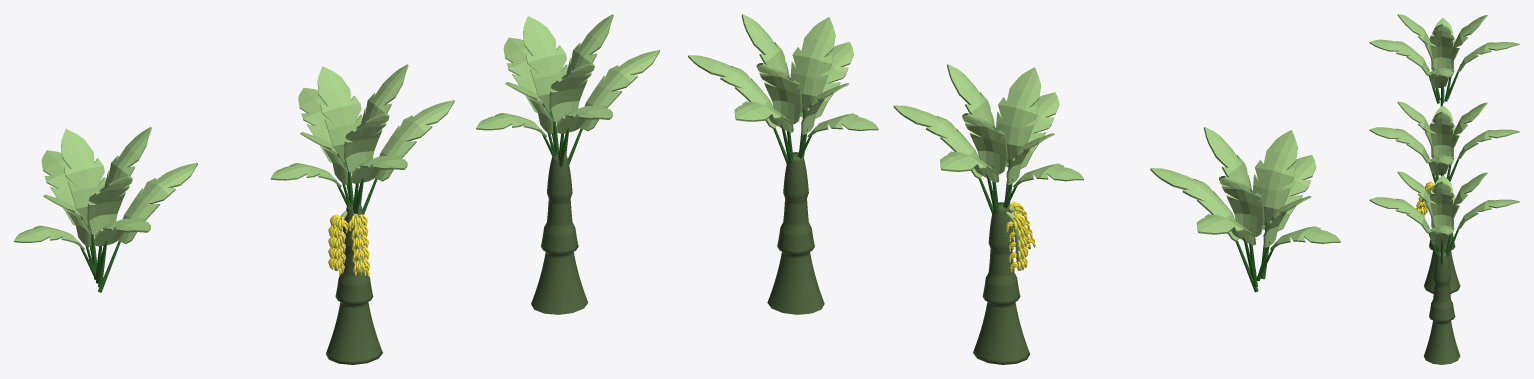
The model's file is banana tree.fbx.
The picture shows the model from 3 angles, left to right: view 1: azimuth 30°, elevation 25°; view 2: azimuth 150°, elevation 25°; view 3: azimuth 270°, elevation 25°; orthographic projection. The views are drawn at different scales.
Parts seen in each view (by area): view 1: NurbsPath, bannatree.001, leaves; view 2: NurbsPath, bannatree.001, leaves; view 3: bannatree.001, NurbsPath, leaves.
Boxes of the visible parts, x1=… form: NurbsPath: x1=270, y1=64, x2=454, y2=364; bannatree.001: x1=476, y1=14, x2=659, y2=314; leaves: x1=14, y1=127, x2=197, y2=292; NurbsPath: x1=893, y1=64, x2=1083, y2=364; bannatree.001: x1=688, y1=14, x2=878, y2=314; leaves: x1=1150, y1=127, x2=1340, y2=292; bannatree.001: x1=1369, y1=171, x2=1519, y2=364; NurbsPath: x1=1369, y1=101, x2=1519, y2=293; leaves: x1=1369, y1=14, x2=1519, y2=106.
Bounding box in the file's own units: 5523 × 2246 × 1583.
